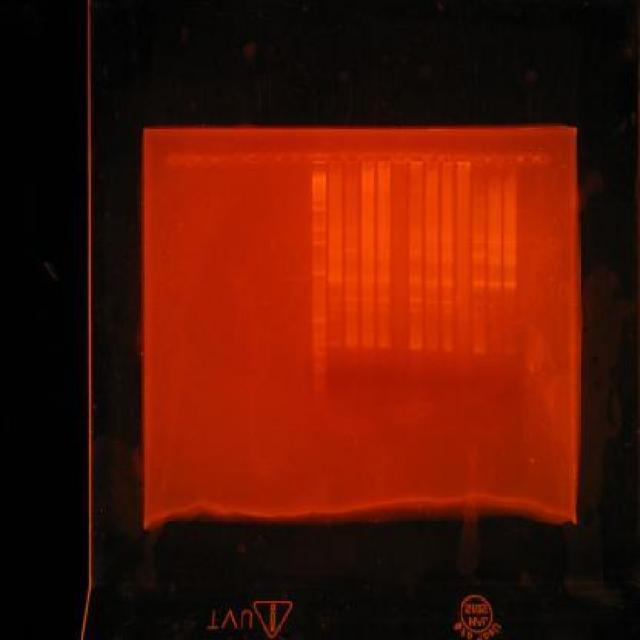B: (424, 343, 441, 354), (360, 294, 376, 302), (472, 348, 488, 356), (502, 348, 518, 356), (471, 310, 487, 318), (328, 339, 343, 347), (344, 340, 359, 348), (408, 296, 423, 304), (377, 342, 392, 350), (344, 304, 358, 312), (442, 344, 456, 352), (409, 342, 423, 350), (360, 342, 376, 349), (472, 298, 486, 306), (407, 307, 424, 313), (471, 280, 487, 286), (503, 286, 519, 292), (328, 296, 344, 302), (424, 308, 440, 314), (408, 274, 424, 280), (502, 260, 518, 266), (502, 254, 518, 260), (502, 238, 518, 244), (360, 306, 376, 312), (376, 280, 392, 286), (376, 276, 392, 282), (360, 280, 376, 286), (360, 274, 376, 280), (471, 288, 487, 294), (328, 274, 343, 280), (327, 250, 342, 256), (328, 306, 343, 312), (424, 298, 439, 304), (344, 254, 359, 260), (344, 246, 359, 252), (424, 236, 439, 242), (344, 274, 359, 280), (377, 307, 392, 313), (344, 237, 359, 243), (328, 228, 342, 234), (328, 280, 342, 286), (328, 234, 342, 240), (488, 280, 502, 286), (503, 280, 517, 286), (378, 296, 392, 302), (344, 296, 358, 302), (487, 238, 501, 244), (472, 238, 486, 244), (440, 258, 454, 264), (426, 256, 440, 262), (409, 248, 423, 254), (440, 254, 454, 260), (424, 282, 440, 287), (486, 260, 502, 265), (486, 253, 502, 258), (471, 252, 487, 257), (471, 259, 487, 264), (424, 232, 439, 237), (344, 280, 359, 285), (377, 255, 392, 260), (488, 285, 502, 290), (440, 283, 454, 288), (440, 310, 454, 315), (487, 233, 501, 238), (409, 256, 423, 261), (441, 279, 454, 284), (441, 300, 454, 305), (424, 278, 440, 282), (502, 234, 518, 238), (408, 282, 423, 286), (471, 234, 486, 238), (472, 284, 486, 288), (440, 234, 454, 238), (344, 234, 358, 238), (441, 238, 454, 242), (486, 257, 502, 260), (472, 257, 486, 260), (409, 253, 423, 256), (344, 231, 358, 234), (344, 252, 359, 254)
L: (159, 144, 553, 172)
M: (309, 150, 328, 407)
P: (310, 361, 326, 376), (310, 380, 326, 394), (310, 314, 326, 324), (310, 269, 326, 277), (310, 238, 326, 246), (310, 224, 326, 232), (310, 332, 326, 340), (310, 340, 326, 348), (311, 348, 327, 356), (311, 206, 327, 212), (312, 194, 326, 200), (310, 189, 326, 194)
Pc: (163, 151, 182, 167), (310, 152, 328, 166), (408, 152, 426, 166), (214, 152, 229, 168), (229, 152, 246, 166), (197, 153, 214, 167), (392, 152, 408, 166), (471, 154, 487, 168), (294, 152, 310, 166), (278, 152, 294, 166), (262, 152, 278, 166), (246, 152, 262, 166), (454, 154, 472, 166), (343, 151, 359, 164), (360, 151, 376, 164), (424, 152, 440, 165), (520, 152, 534, 166), (488, 154, 502, 168), (440, 152, 454, 166), (182, 153, 196, 167), (328, 151, 343, 164), (503, 154, 519, 166), (376, 153, 392, 164), (537, 153, 551, 164)
